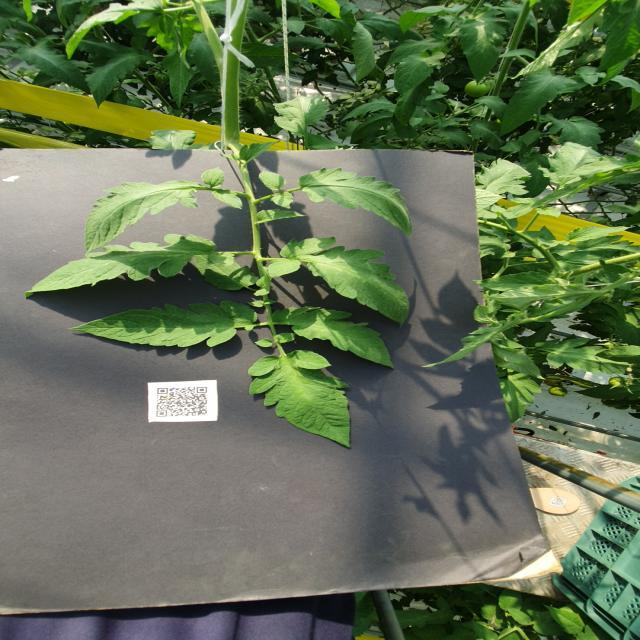Tomato healthy leaf: (24, 234, 218, 298), (280, 236, 410, 327), (248, 350, 352, 448), (85, 168, 201, 255), (70, 300, 258, 348), (298, 166, 413, 234), (271, 306, 394, 369), (498, 67, 576, 136), (314, 8, 376, 86), (84, 46, 158, 110), (457, 5, 511, 86), (534, 337, 637, 375), (16, 44, 92, 95), (594, 0, 640, 72), (493, 366, 543, 423), (537, 142, 603, 182), (194, 252, 258, 290), (470, 269, 572, 292), (273, 95, 329, 136), (394, 51, 446, 95), (476, 157, 534, 196), (490, 340, 546, 380), (548, 115, 606, 152), (398, 3, 467, 34), (395, 76, 435, 126), (162, 49, 195, 109), (349, 108, 394, 144), (543, 603, 587, 635), (339, 96, 396, 120), (466, 118, 506, 150), (564, 225, 635, 242), (146, 128, 197, 150), (238, 140, 282, 164), (593, 344, 640, 364), (475, 95, 507, 122), (255, 208, 308, 224), (265, 258, 302, 278), (212, 190, 244, 210), (258, 169, 288, 190), (200, 167, 226, 188), (310, 138, 348, 150), (271, 190, 294, 208)
